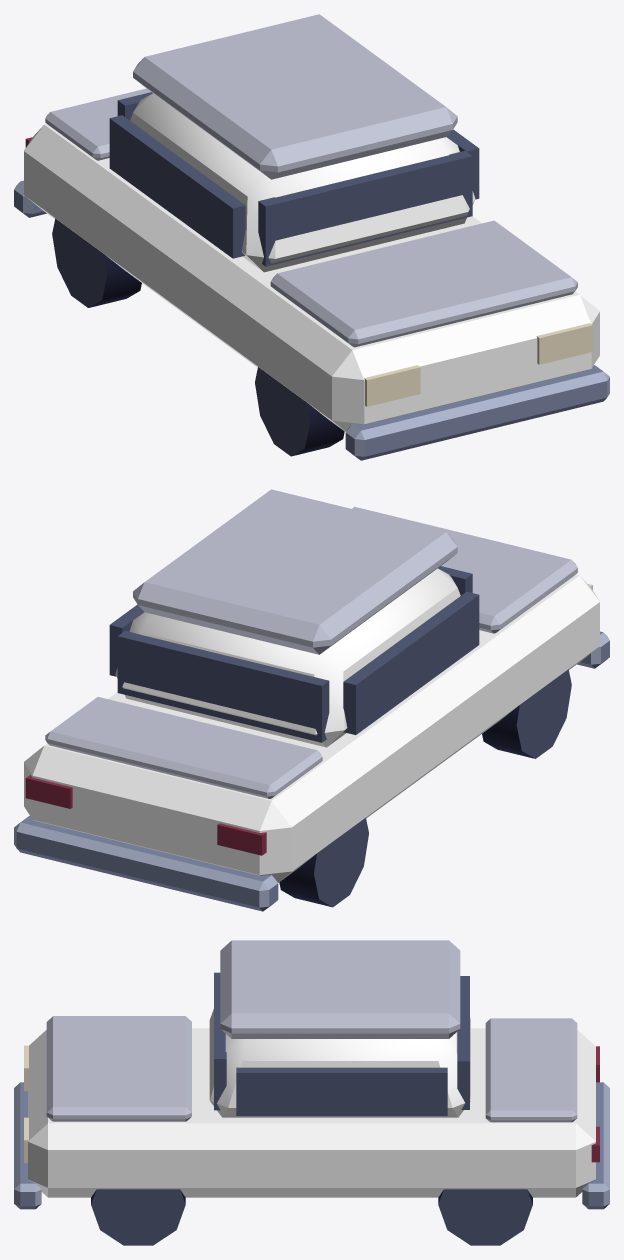
The model's file is Car_Parked.fbx.
The picture shows the model from 3 angles, top to bottom: view 1: azimuth 30°, elevation 25°; view 2: azimuth 150°, elevation 25°; view 3: azimuth 270°, elevation 25°; orthographic projection. The views are drawn at different scales.
Visible parts, largest first — view 1: Car_Parked, Car_Parked_Paint; view 2: Car_Parked, Car_Parked_Paint; view 3: Car_Parked, Car_Parked_Paint.
Boxes of the visible parts, left/top/right/bottom form: Car_Parked: left=14, top=14, right=609, bottom=460; Car_Parked_Paint: left=24, top=93, right=599, bottom=431; Car_Parked: left=14, top=489, right=609, bottom=911; Car_Parked_Paint: left=24, top=568, right=599, bottom=882; Car_Parked: left=14, top=940, right=609, bottom=1245; Car_Parked_Paint: left=28, top=1009, right=595, bottom=1197.
Bounding box in the file's own units: 4.2 × 3.74 × 9.44.
Materials: 1 (1 with a texture image).
